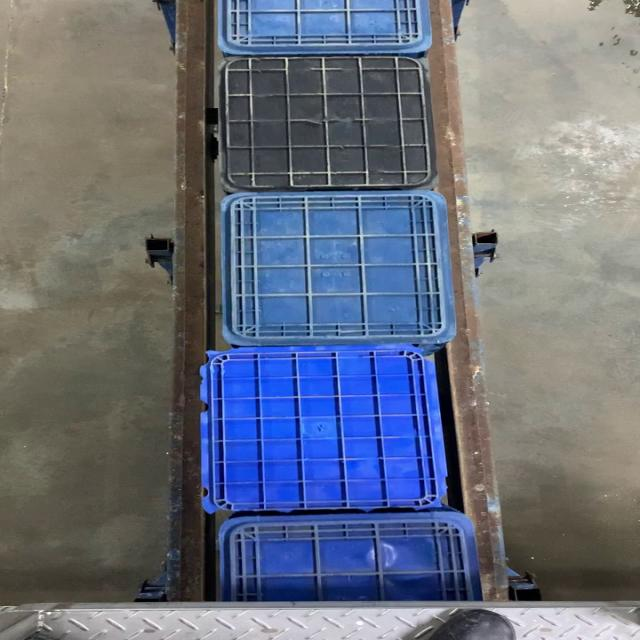Box: (221, 194, 459, 344), (215, 56, 440, 192)
Damaged_box: (192, 344, 448, 514)
